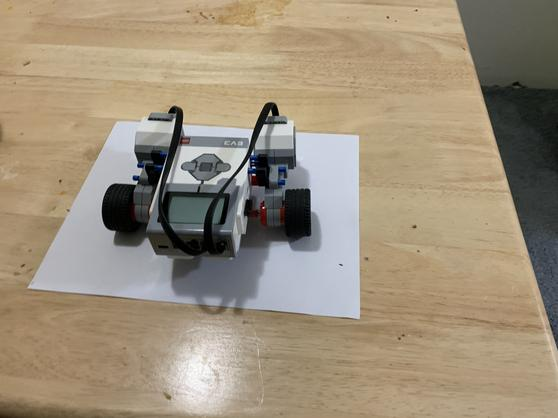robot: (99, 96, 324, 261)
